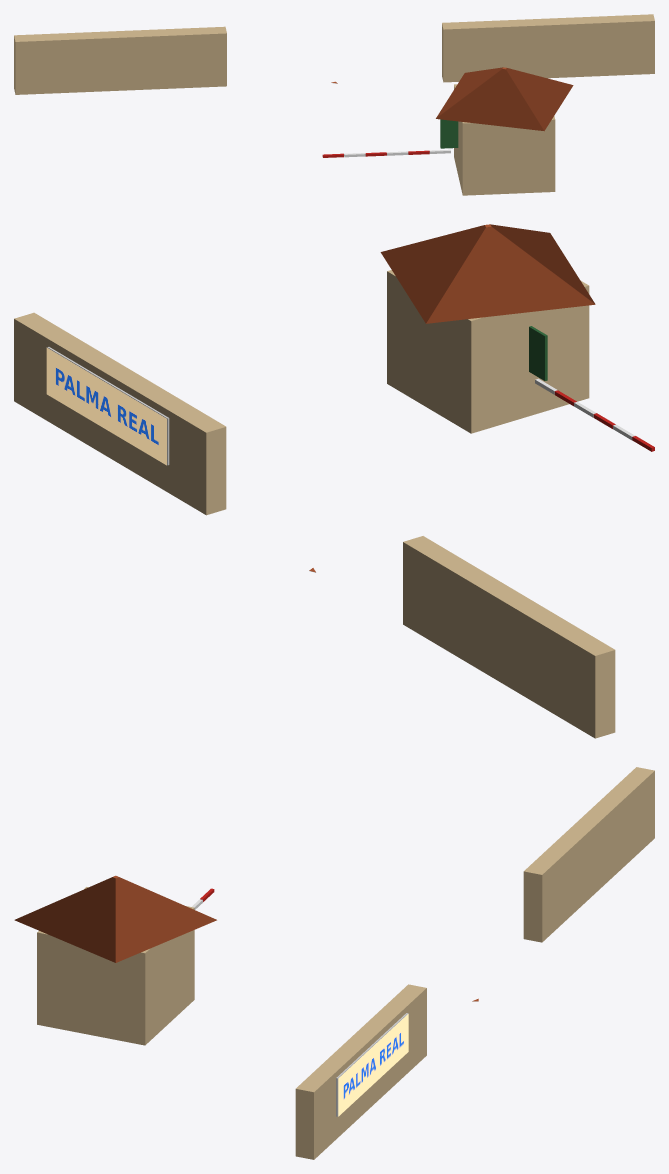
File: palmareal_gate.glb
3 views of the same model, one above another, from view 1: azimuth 30°, elevation 25°; view 2: azimuth 150°, elevation 25°; view 3: azimuth 270°, elevation 25° (orthographic). The views are drawn at different scales.
Visible parts, largest first — view 1: palmareal_gate_lod0; view 2: palmareal_gate_lod0; view 3: palmareal_gate_lod0.
Part boxes in pixels (<box>): palmareal_gate_lod0: <box>14,14,654,195</box>; palmareal_gate_lod0: <box>14,224,654,738</box>; palmareal_gate_lod0: <box>14,767,654,1159</box>.
Size of what is drawn, in the model's own units: 22.25 by 4.61 by 18.88.
Materials: 8 (1 with a texture image).
